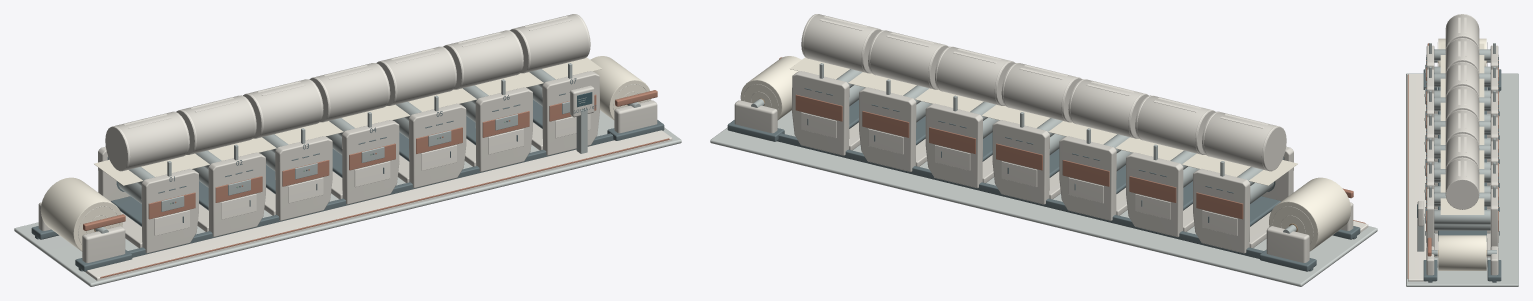
File: bosma-7-clay.glb
The picture shows the model from 3 angles, left to right: view 1: azimuth 30°, elevation 25°; view 2: azimuth 150°, elevation 25°; view 3: azimuth 270°, elevation 25°; orthographic projection. The views are drawn at different scales.
Parts seen in each view (by area): view 1: warm porcelain, chalk edges, satin ceramic rollers, ivory paper, muted terracotta band, slate recess, studio floor, UNWIND paper roll · animatable.003, REWIND paper roll · animatable.003; view 2: warm porcelain, studio floor, chalk edges, slate recess, ivory paper, muted terracotta band, satin ceramic rollers, UNWIND paper roll · animatable.003, REWIND paper roll · animatable.003; view 3: warm porcelain, studio floor, chalk edges, satin ceramic rollers, ivory paper, REWIND paper roll · animatable.003, slate recess, muted terracotta band, UNWIND paper roll · animatable.003.
Boxes of the visible parts, x1,y1,x2,y2 form: warm porcelain: (38,14,657,262); chalk edges: (85,14,672,280); satin ceramic rollers: (95,63,640,233); ivory paper: (94,57,601,185); muted terracotta band: (83,90,669,278); slate recess: (31,78,664,271); studio floor: (14,110,681,286); UNWIND paper roll · animatable.003: (40,177,122,251); REWIND paper roll · animatable.003: (590,56,650,120); warm porcelain: (734,14,1353,269); studio floor: (710,110,1377,286); chalk edges: (801,14,1368,235); slate recess: (727,88,1360,271); ivory paper: (790,57,1297,185); muted terracotta band: (779,57,1365,223); satin ceramic rollers: (751,63,1296,233); UNWIND paper roll · animatable.003: (1269,177,1351,251); REWIND paper roll · animatable.003: (740,56,801,120); warm porcelain: (1417,14,1498,275); studio floor: (1406,73,1518,286); chalk edges: (1408,14,1498,281); satin ceramic rollers: (1417,43,1496,255); ivory paper: (1440,43,1484,214); REWIND paper roll · animatable.003: (1438,235,1486,270); slate recess: (1423,49,1501,282); muted terracotta band: (1407,43,1498,278); UNWIND paper roll · animatable.003: (1438,38,1486,66).
Size of the model in its own units: 18.2 by 3.4 by 4.1.
